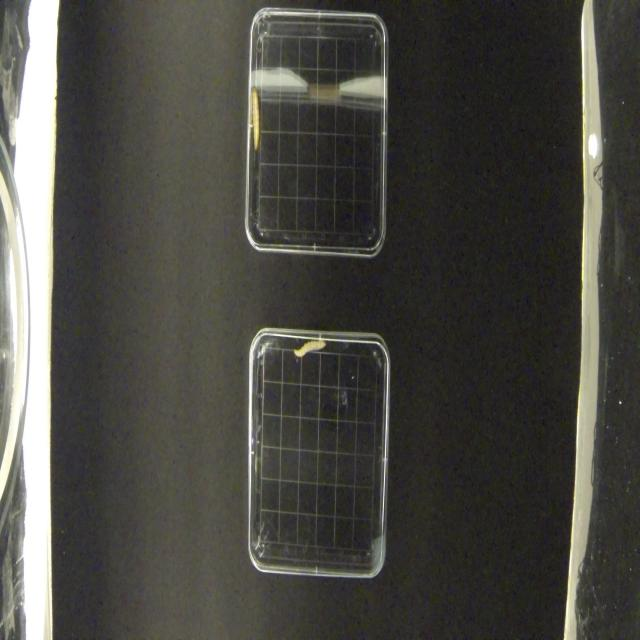larva: (249, 91, 263, 150), (293, 338, 326, 359)
